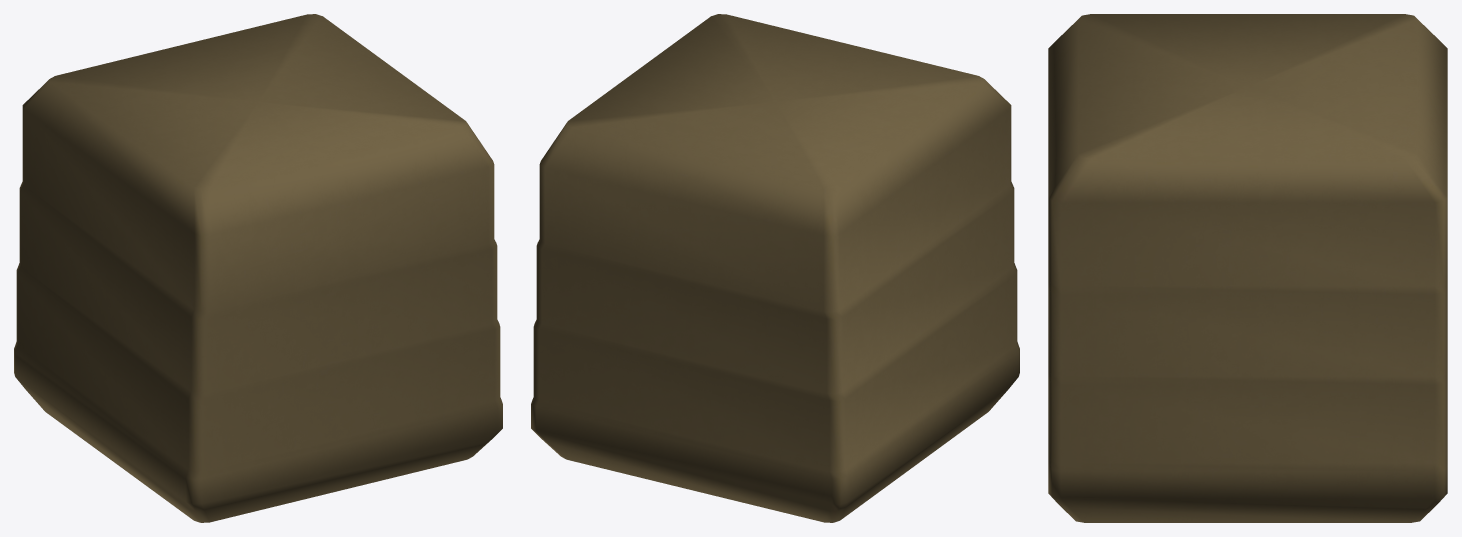
Rendered from machine-sifter-unit-tripo-original.glb.
3 views of the same model, side by side, from view 1: azimuth 30°, elevation 25°; view 2: azimuth 150°, elevation 25°; view 3: azimuth 270°, elevation 25° (orthographic). The views are drawn at different scales.
Parts seen in each view (by area): view 1: Authored_surface; view 2: Authored_surface; view 3: Authored_surface.
Part boxes in pixels (x1,y1,x2,y2): Authored_surface: [14, 14, 502, 522]; Authored_surface: [531, 14, 1019, 522]; Authored_surface: [1048, 14, 1447, 522].
Size of the model in its own units: 1 by 1 by 1.
1 material, 1 textured.
